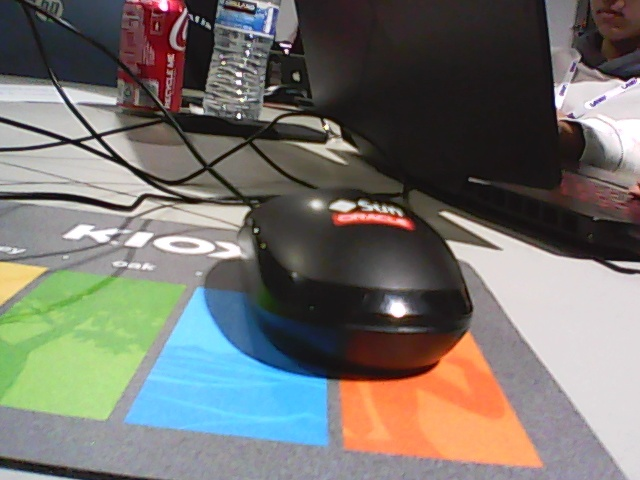mouse: (237, 186, 475, 375)
